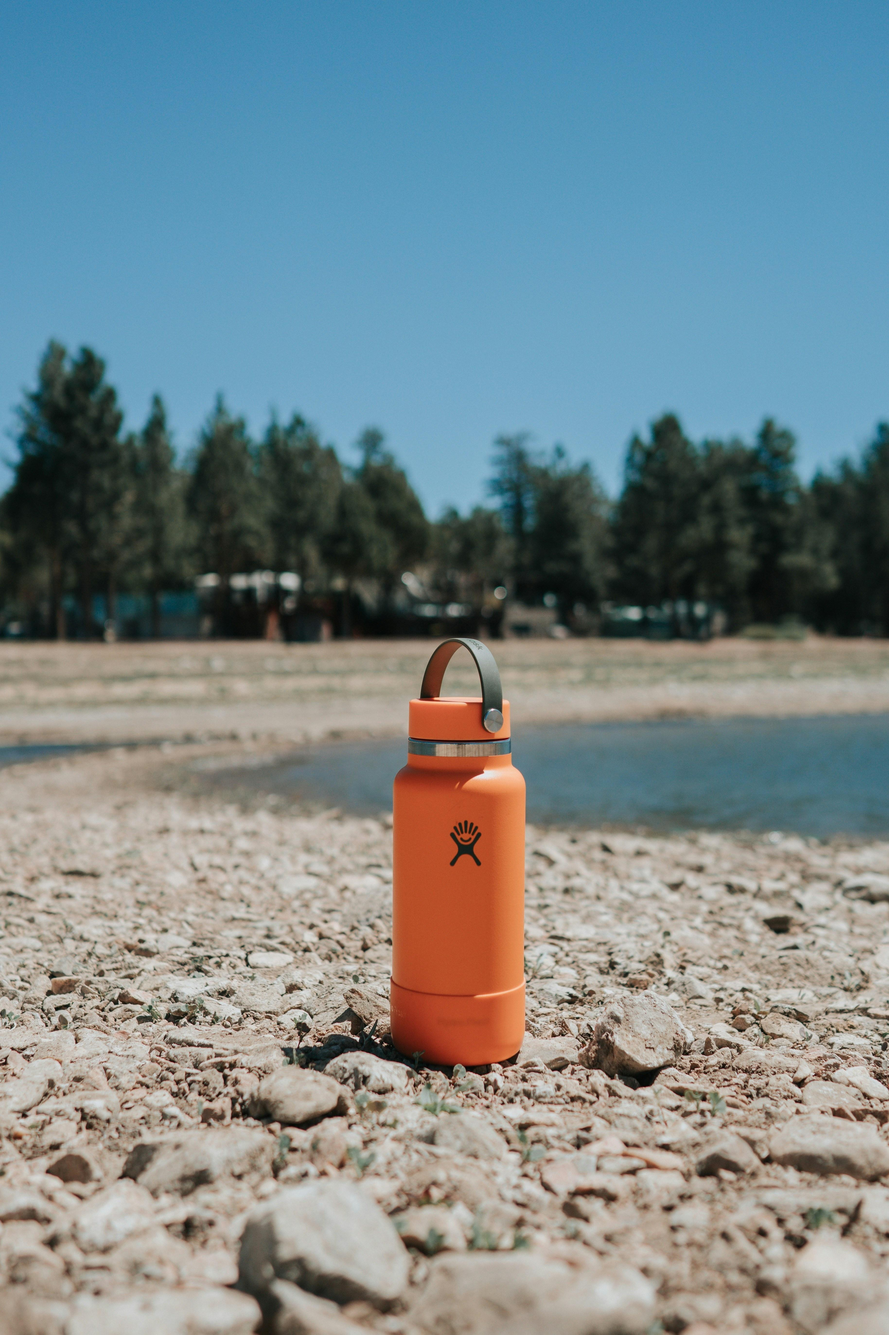Bottle-Detection: (348, 603, 583, 1105)
